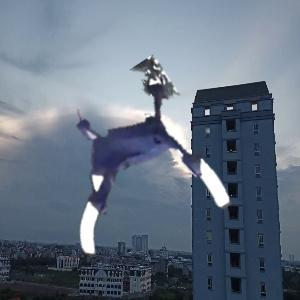drone: (45, 87, 216, 258)
